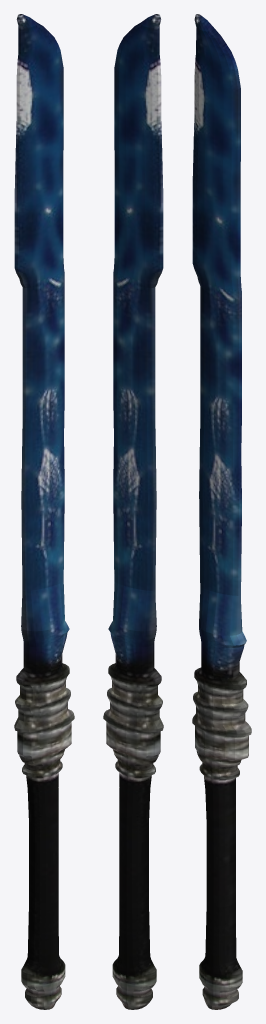
The model's file is mizurio.obj.
3 views of the same model, side by side, from view 1: azimuth 30°, elevation 25°; view 2: azimuth 150°, elevation 25°; view 3: azimuth 330°, elevation 25° (orthographic).
Parts seen in each view (by area): view 1: Cube; view 2: Cube; view 3: Cube.
Part boxes in pixels (x1,y1,x2,y2): Cube: [14, 14, 74, 1009]; Cube: [103, 14, 163, 1009]; Cube: [192, 14, 251, 1009].
Size of the model in its own units: 0.515 by 8.31 by 0.23.
